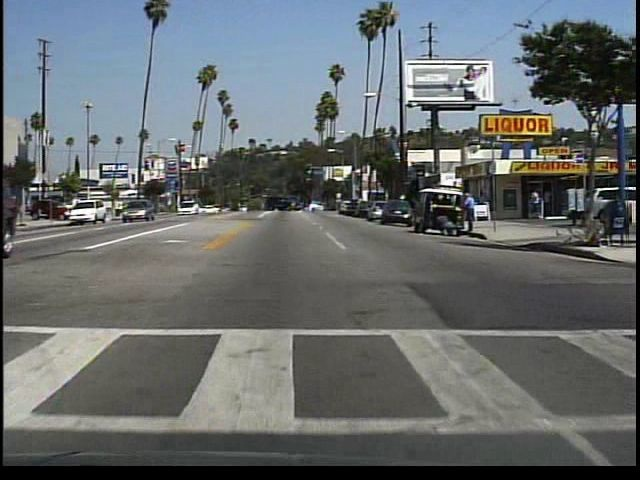person: (463, 190, 483, 237), (1, 193, 24, 225), (529, 186, 543, 225), (436, 214, 456, 239), (543, 187, 554, 218)
